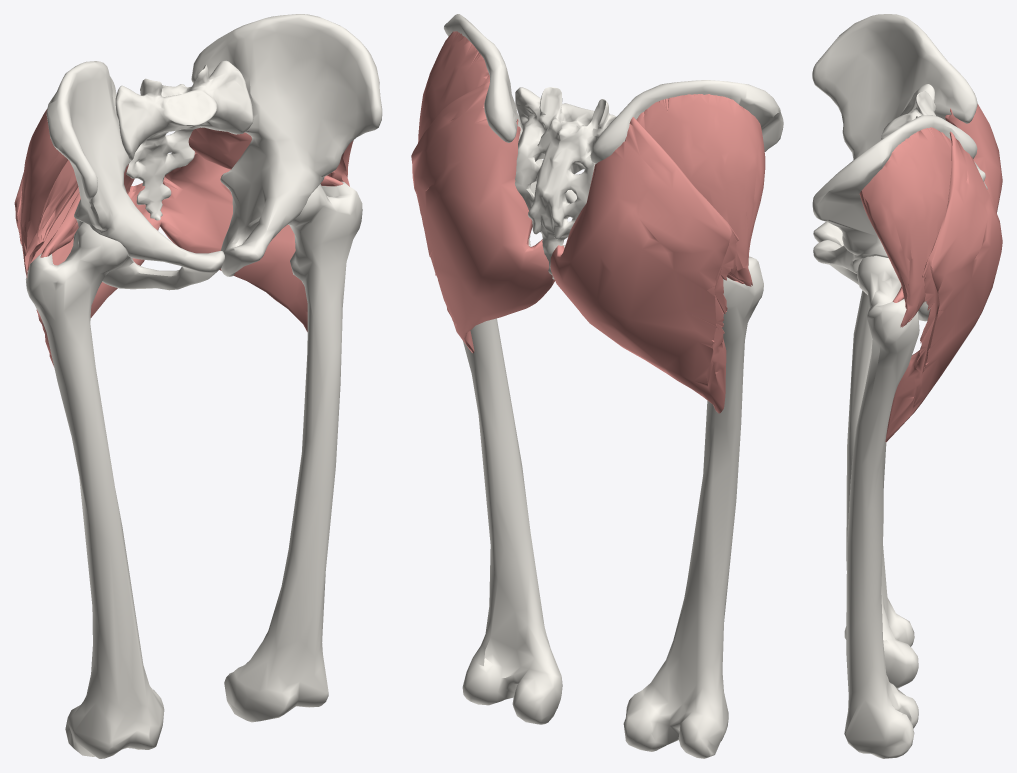
Rendered from quadril.glb.
3 views of the same model, side by side, from view 1: azimuth 30°, elevation 25°; view 2: azimuth 150°, elevation 25°; view 3: azimuth 270°, elevation 25° (orthographic). The views are drawn at different scales.
Parts seen in each view (by area): view 1: femur, osso-do-quadril, gluteo-maximo, sacro, gluteo-medio, piriforme; view 2: gluteo-maximo, femur, gluteo-medio, sacro, osso-do-quadril; view 3: femur, osso-do-quadril, gluteo-maximo, gluteo-medio, sacro.
Boxes of the visible parts, box(x1,y1,x2,y2) form: femur: box(25, 181, 362, 758); osso-do-quadril: box(46, 14, 382, 290); gluteo-maximo: box(14, 152, 307, 366); sacro: box(115, 60, 253, 220); gluteo-medio: box(20, 109, 353, 278); piriforme: box(40, 127, 343, 257); gluteo-maximo: box(411, 81, 738, 413); femur: box(462, 256, 763, 758); gluteo-medio: box(418, 31, 765, 286); sacro: box(515, 87, 616, 279); osso-do-quadril: box(444, 14, 783, 247); femur: box(844, 256, 919, 758); osso-do-quadril: box(812, 14, 977, 321); gluteo-maximo: box(885, 104, 1002, 442); gluteo-medio: box(859, 127, 951, 327); sacro: box(881, 84, 987, 189).
Size of the model in its own units: 0.3002 by 0.5898 by 0.1589.
